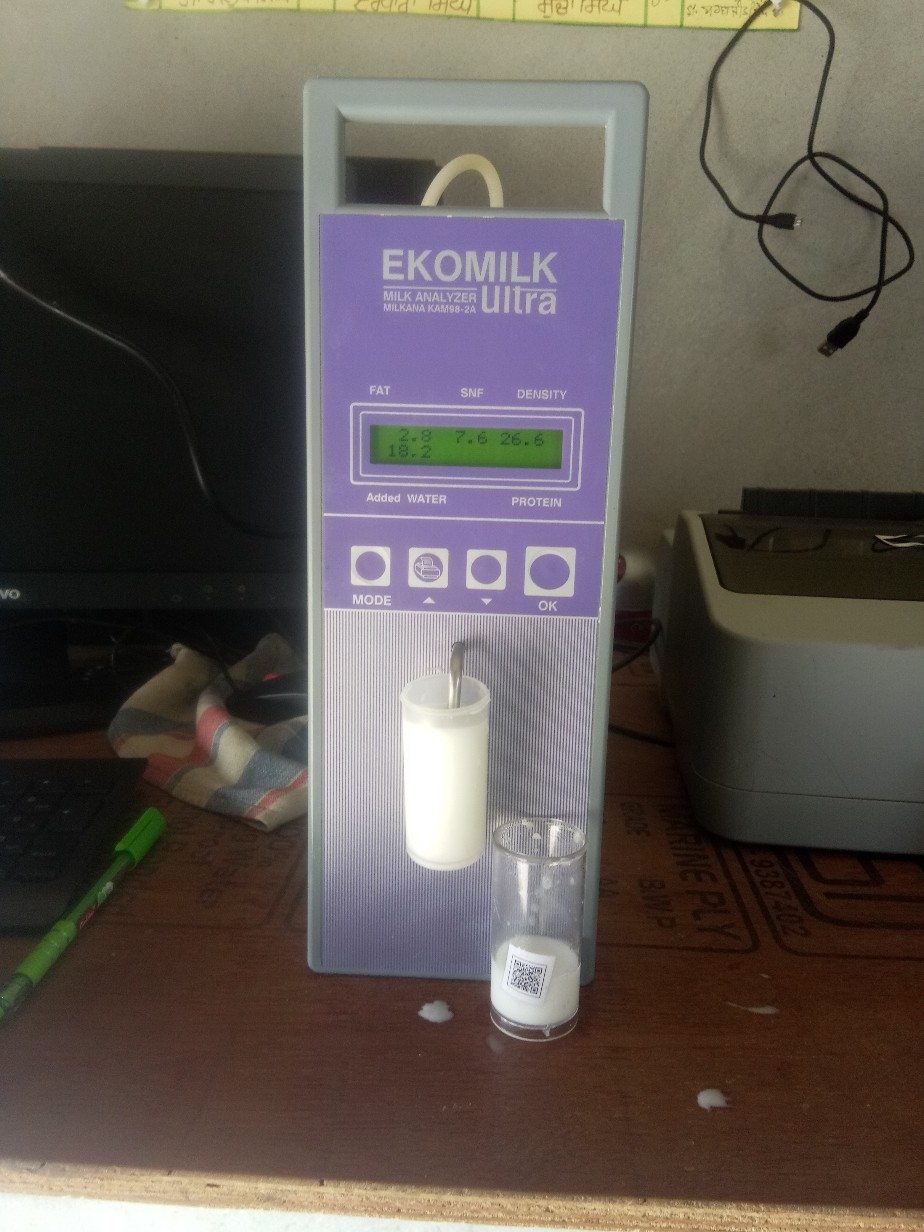lcd: (361, 419, 584, 478)
qr: (497, 946, 555, 999)
